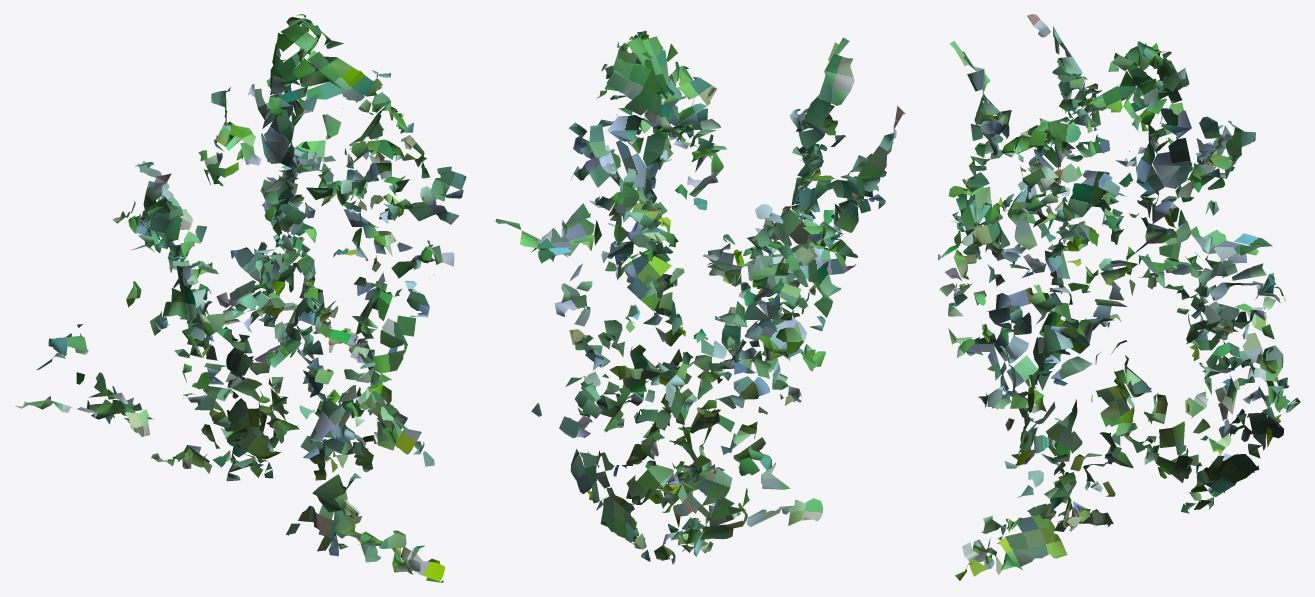
File: rosemary.obj
3 views of the same model, side by side, from view 1: azimuth 30°, elevation 25°; view 2: azimuth 150°, elevation 25°; view 3: azimuth 270°, elevation 25° (orthographic). The views are drawn at different scales.
Size of the model in its own units: 1.26 by 1.81 by 1.14.
1 material, 1 textured.
